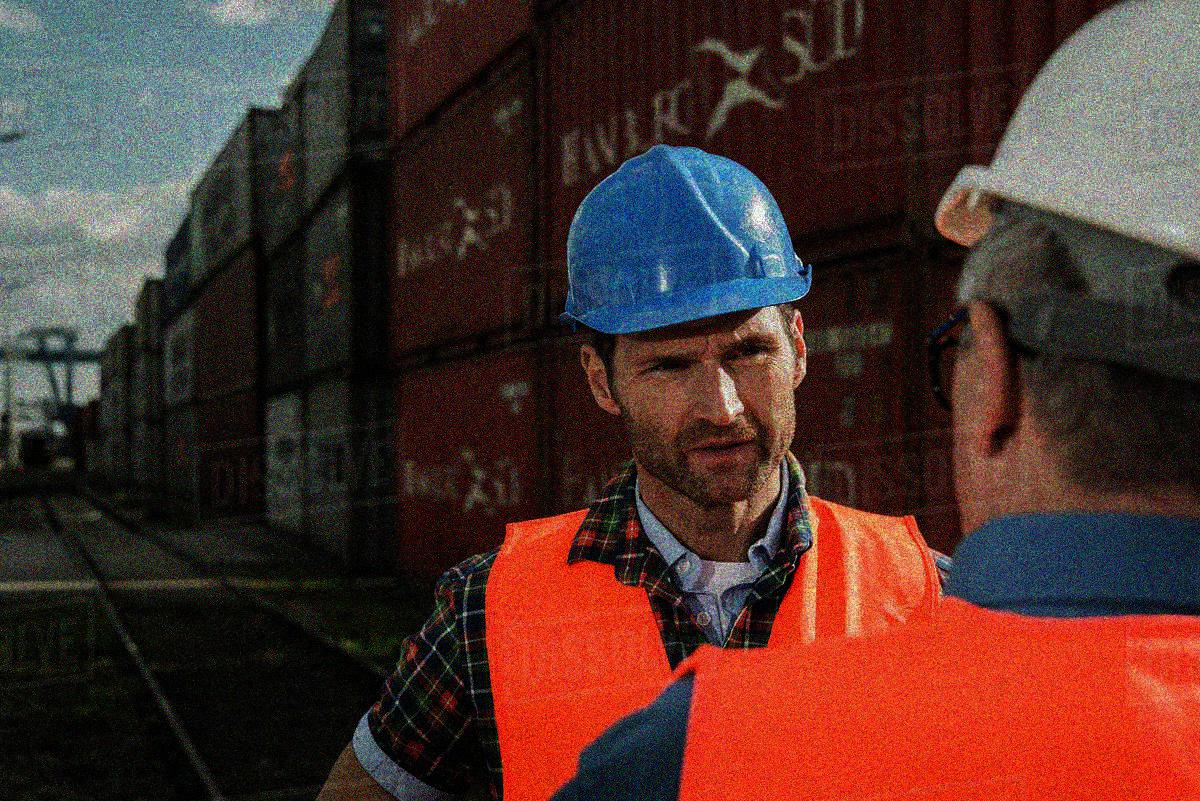helmet: (919, 1, 1200, 541), (557, 145, 813, 502)
